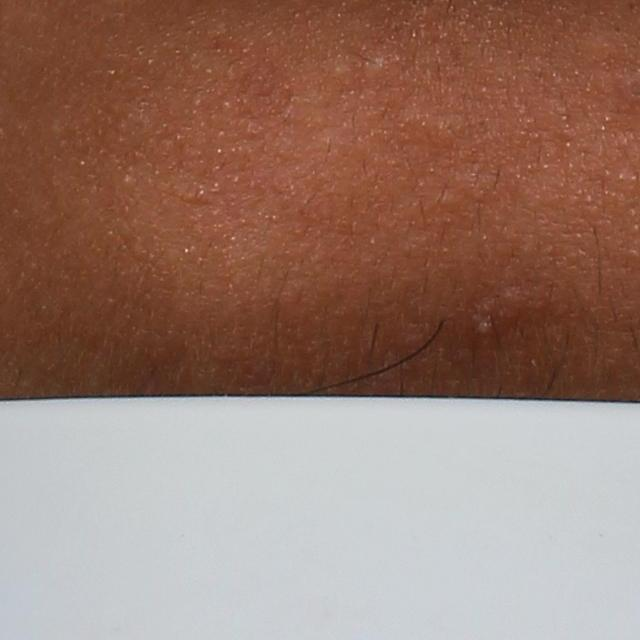comedo: (363, 53, 390, 86)
